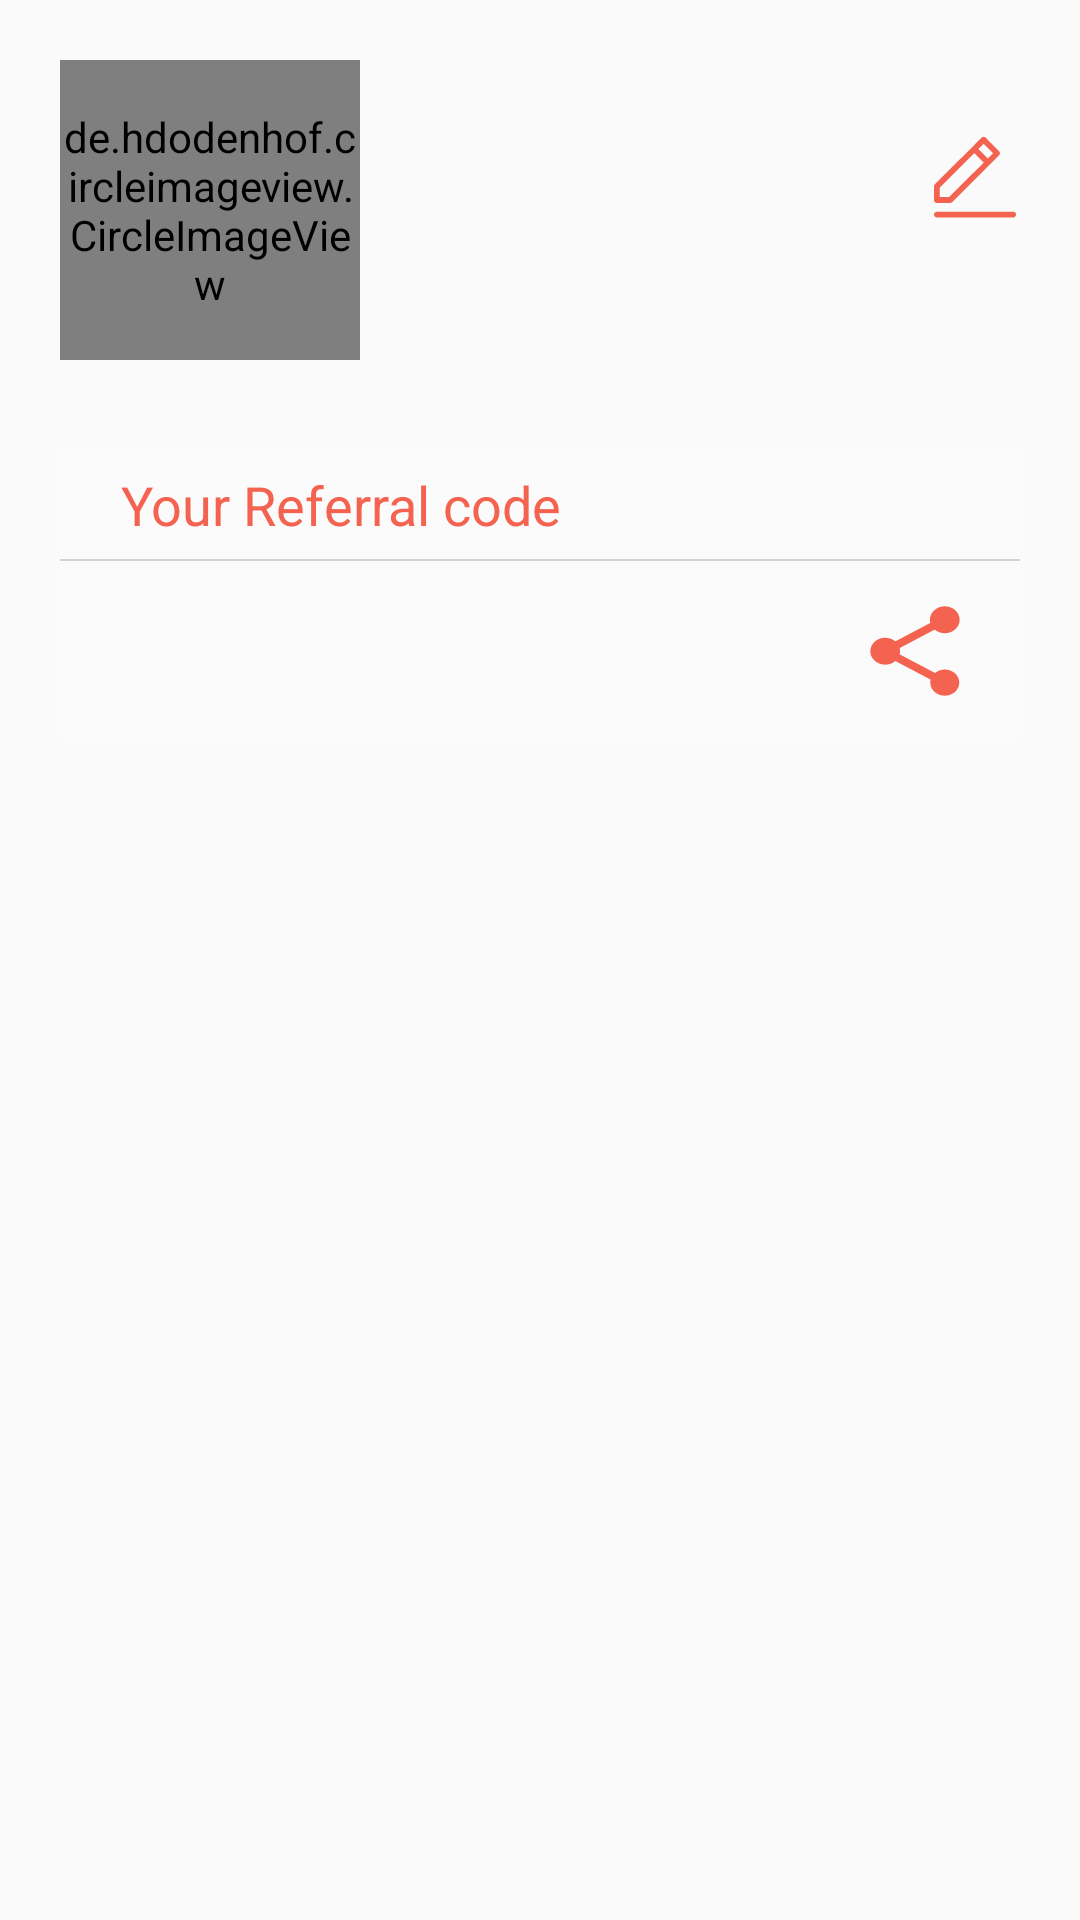

Screen size 1080w x 1920h. Icon name, then its box in pixels as (x1, y1, x2, y2):
edit: (934, 136, 1016, 218)
share: (870, 606, 960, 696)
